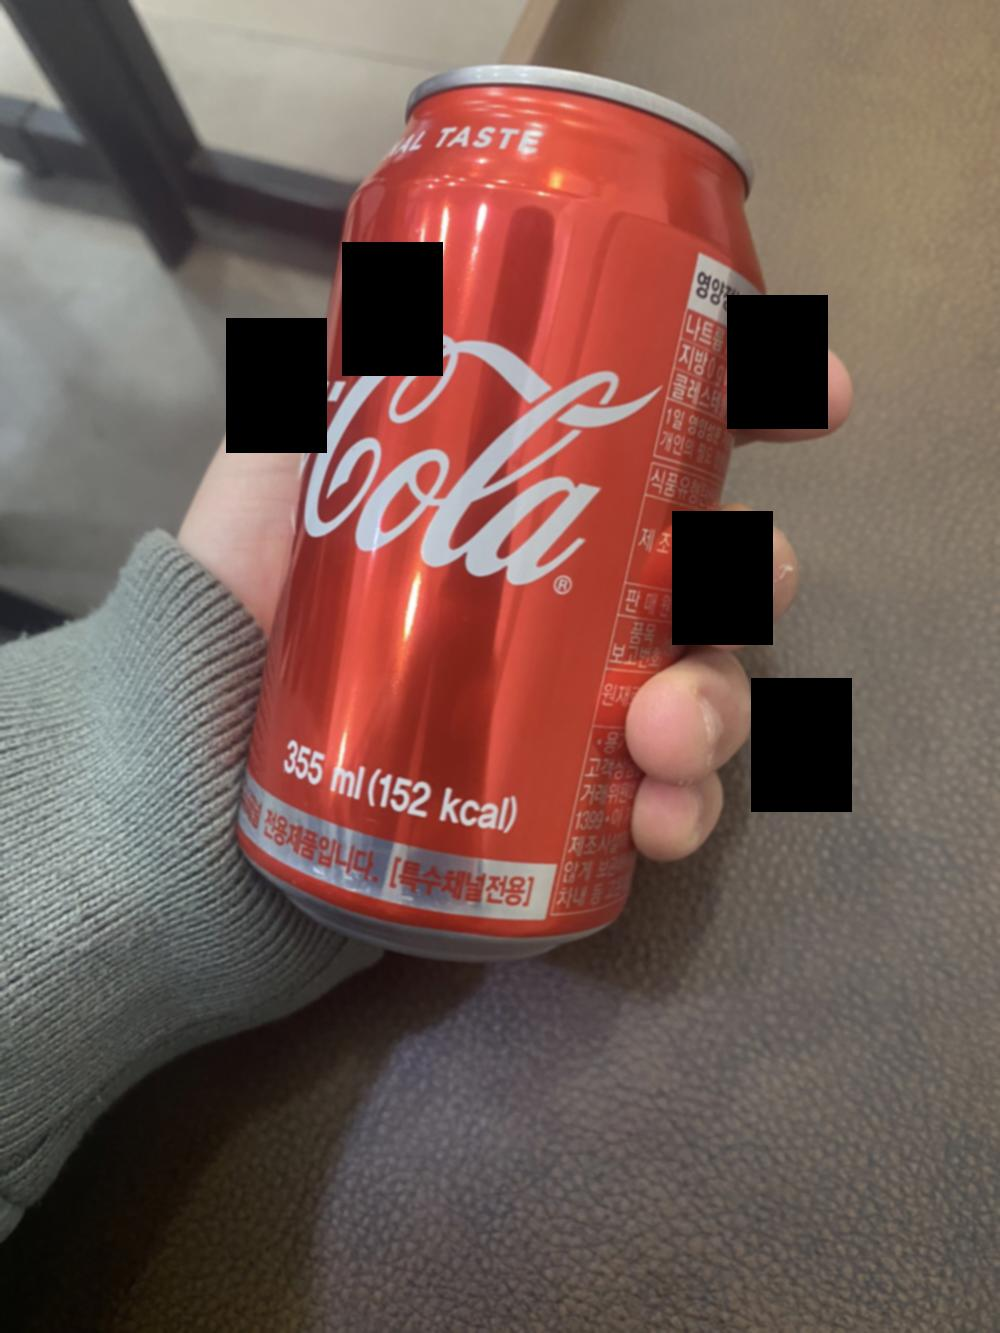cocacola: (245, 57, 776, 987)
